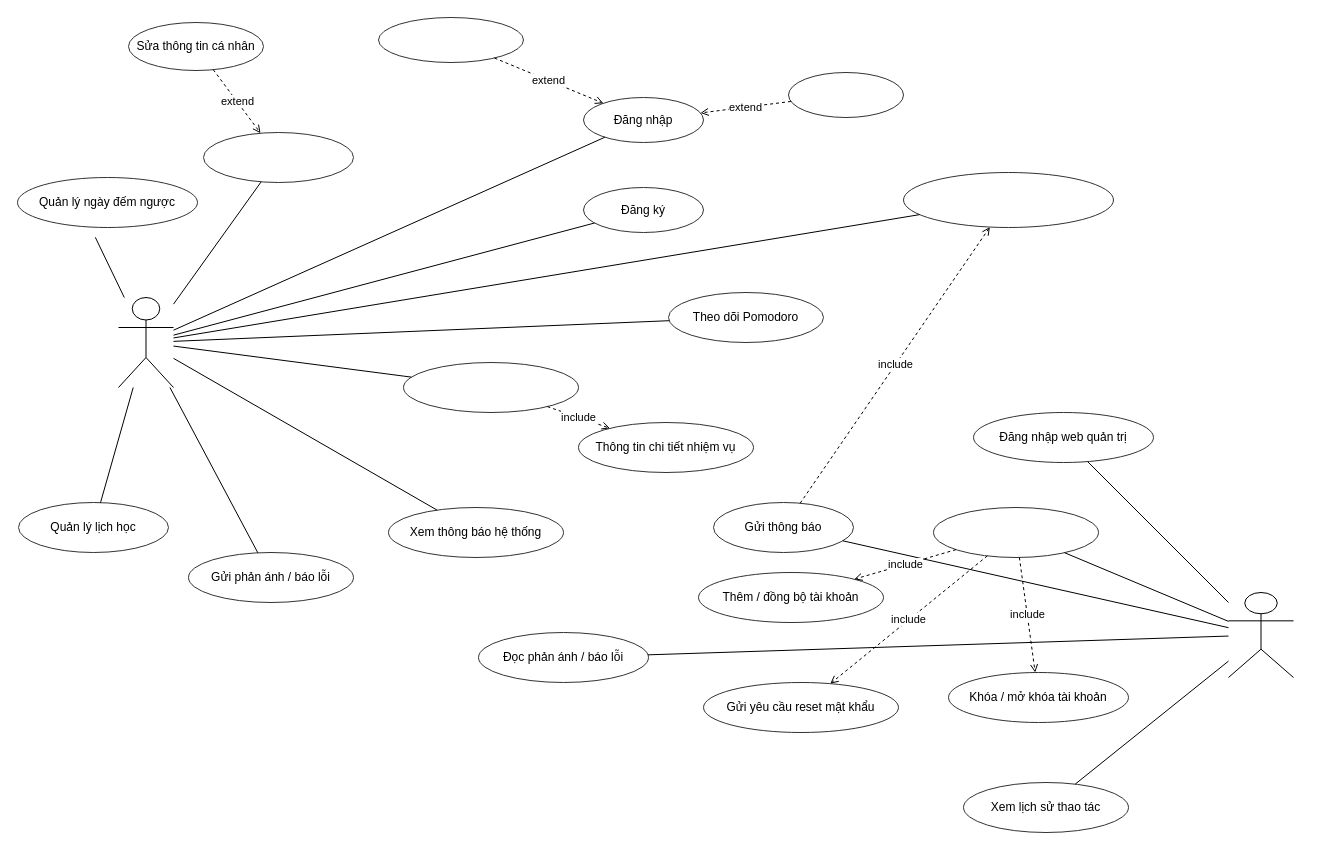
The diagram is 1317 pixels wide and 850 high, and some of its shapes have lost their labels. Here are the shapes that lost their labels. From the top down, the centre of each, then its label:
At [451,39]: "Lấy lại mật khẩu".
At [846,95]: "Đăng xuất".
At [278,157]: "Xem thông tin cá nhân".
At [1008,200]: "Nhận thông báo trên thanh thông báo".
At [146,342]: "Người dùng".
At [490,387]: "Quản lý nhiệm vụ học tập".
At [1015,532]: "Quản lý người dùng".
At [1261,635]: "Người quản trị".
